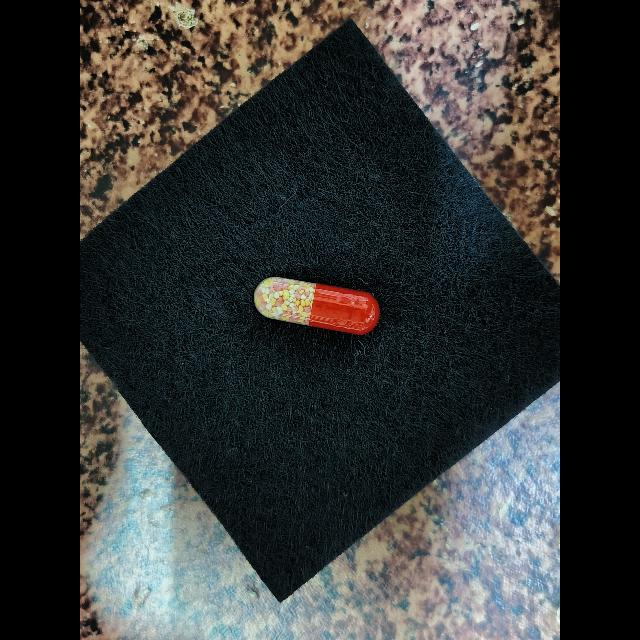Intact Capsule: (254, 277, 380, 335)
